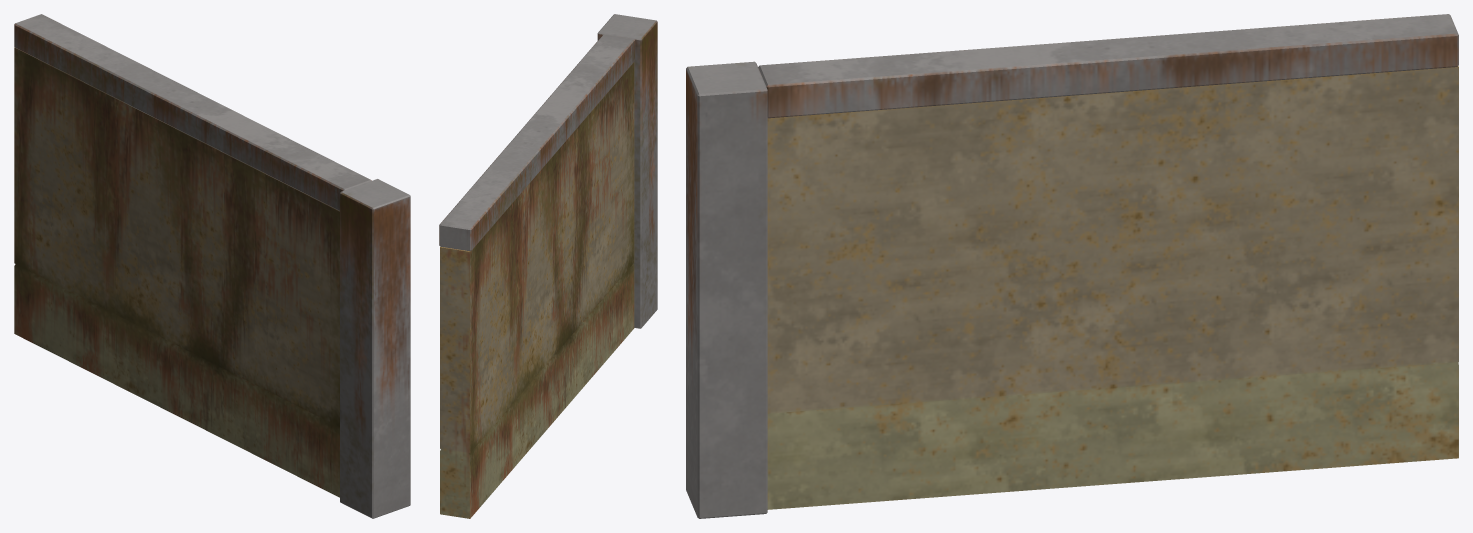
File: Muro_Concreto.fbx
The picture shows the model from 3 angles, left to right: view 1: azimuth 30°, elevation 25°; view 2: azimuth 150°, elevation 25°; view 3: azimuth 270°, elevation 25°; orthographic projection. The views are drawn at different scales.
Parts seen in each view (by area): view 1: Muro_Concreto14; view 2: Muro_Concreto14; view 3: Muro_Concreto14.
Part boxes in pixels (x1,y1,x2,y2): Muro_Concreto14: [14, 14, 410, 518]; Muro_Concreto14: [439, 14, 657, 518]; Muro_Concreto14: [686, 14, 1458, 518].
Size of the model in its own units: 0.8224 by 2 by 3.3.
